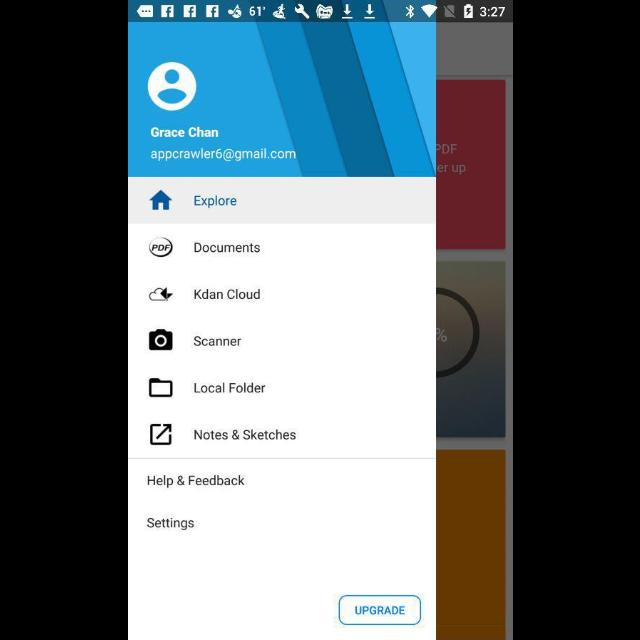icon: (147, 62, 196, 112), (148, 329, 174, 351), (148, 378, 174, 398), (150, 424, 172, 446), (149, 190, 173, 210), (148, 288, 174, 302)
image: (149, 238, 173, 258)
panel: (128, 22, 434, 640)
text: (150, 148, 296, 162), (146, 475, 244, 489), (192, 428, 296, 440), (194, 382, 266, 394), (150, 127, 218, 139), (193, 242, 260, 254), (193, 288, 260, 300), (146, 517, 194, 531), (194, 195, 236, 209), (193, 335, 241, 347)
textbutton: (338, 595, 420, 625)
uppertaskbar: (128, 1, 512, 23)
